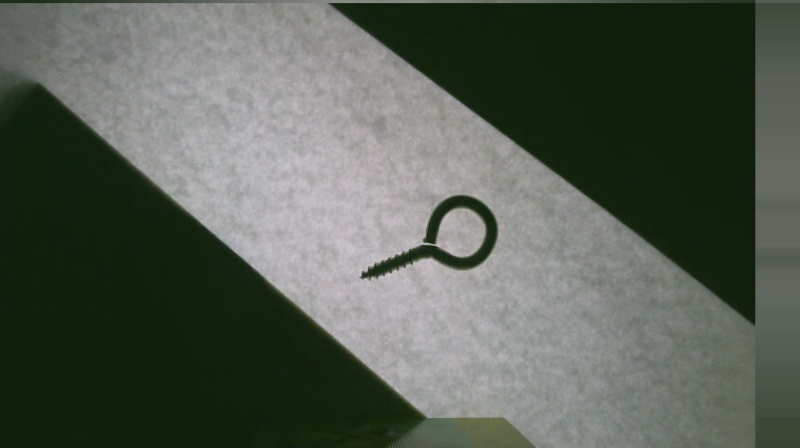O001: (357, 193, 502, 284)
